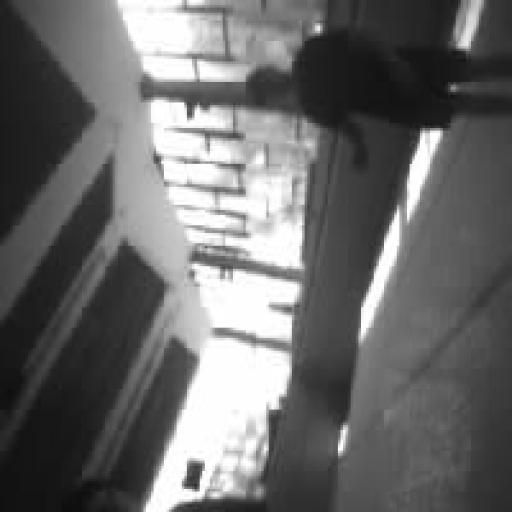human: (246, 29, 511, 166), (59, 478, 269, 512)
